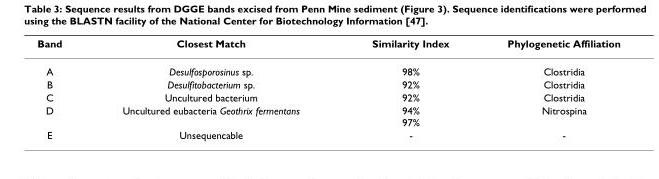table: (36, 36, 619, 140)
table column: (91, 36, 335, 140), (335, 36, 477, 140), (477, 36, 619, 140), (36, 36, 91, 140)
table column header: (36, 36, 619, 57)
table row: (36, 103, 619, 128), (36, 36, 619, 57), (36, 57, 619, 77), (36, 77, 619, 90), (36, 90, 619, 103), (36, 128, 619, 140)
